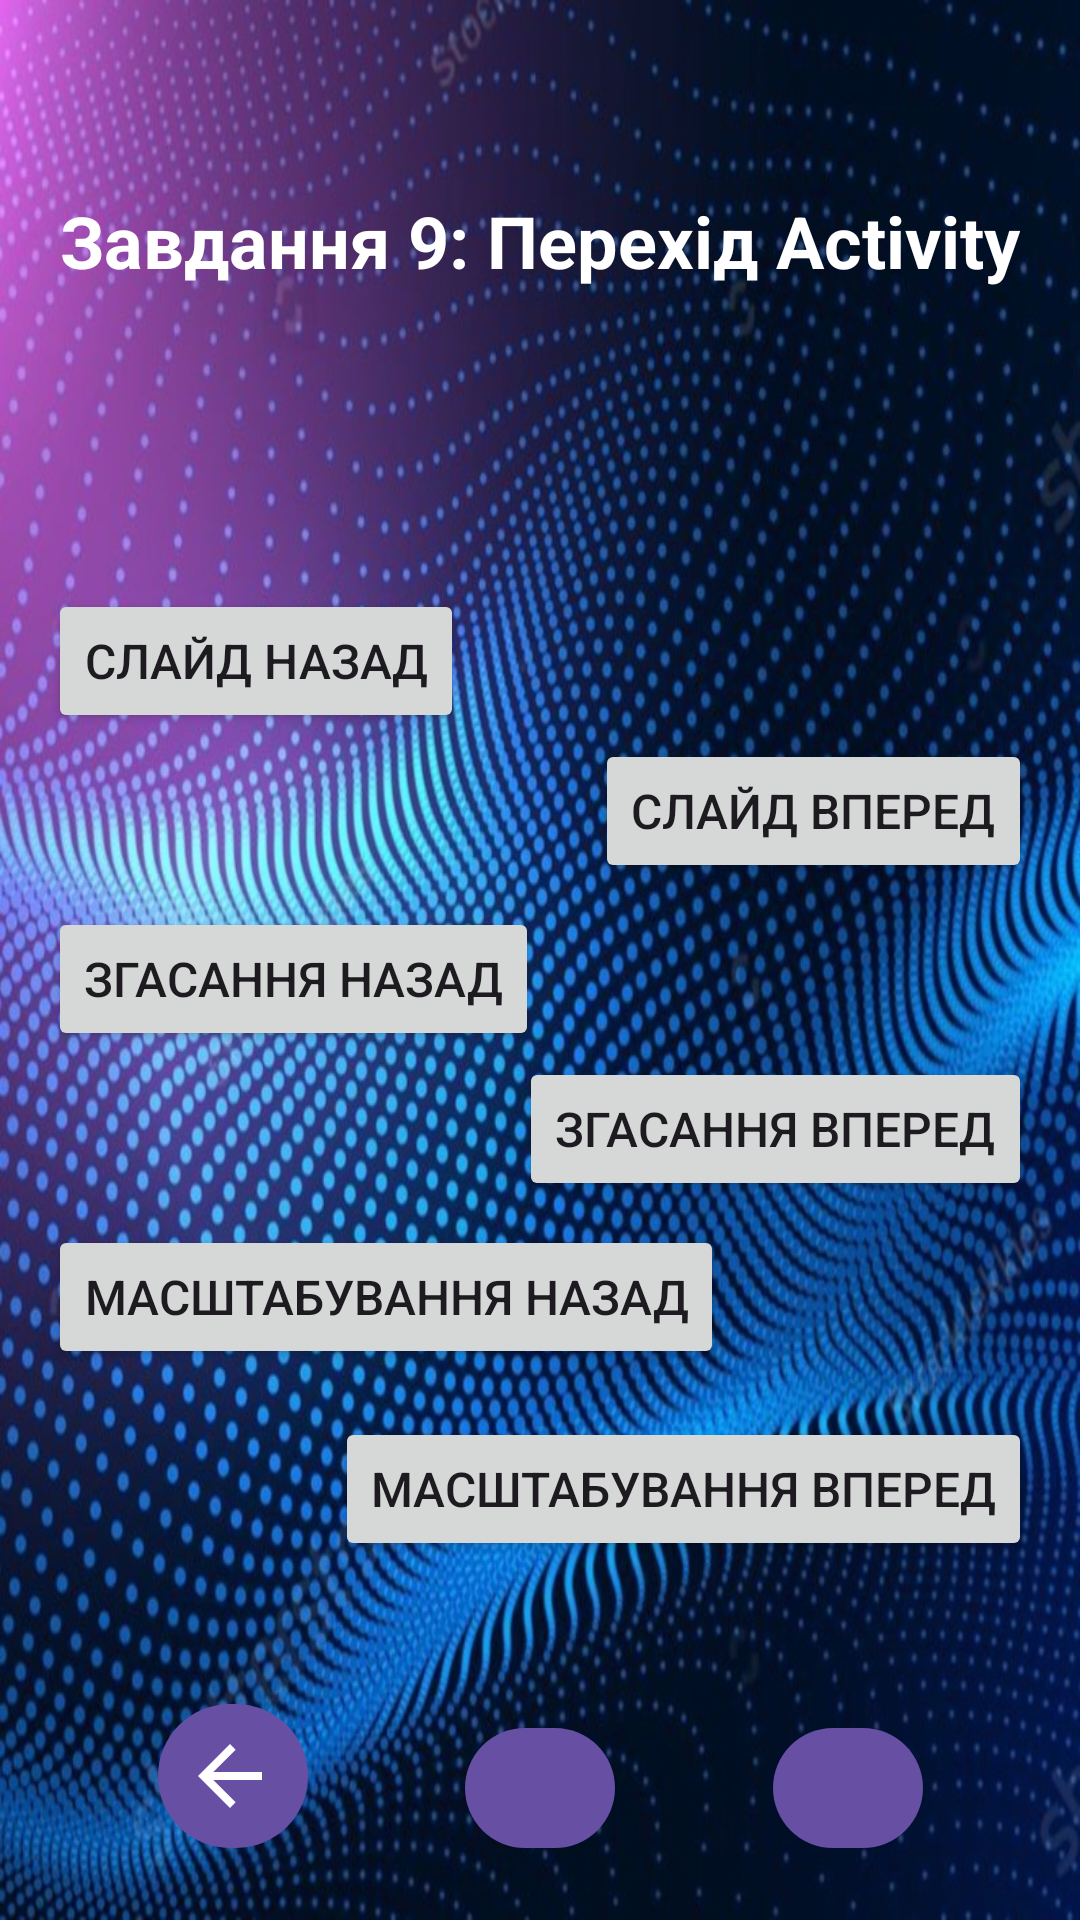

Icon click points for this 1080 x 1920 phone screenshot, format point (x, y):
Повернутися назад: point (233, 1776)
